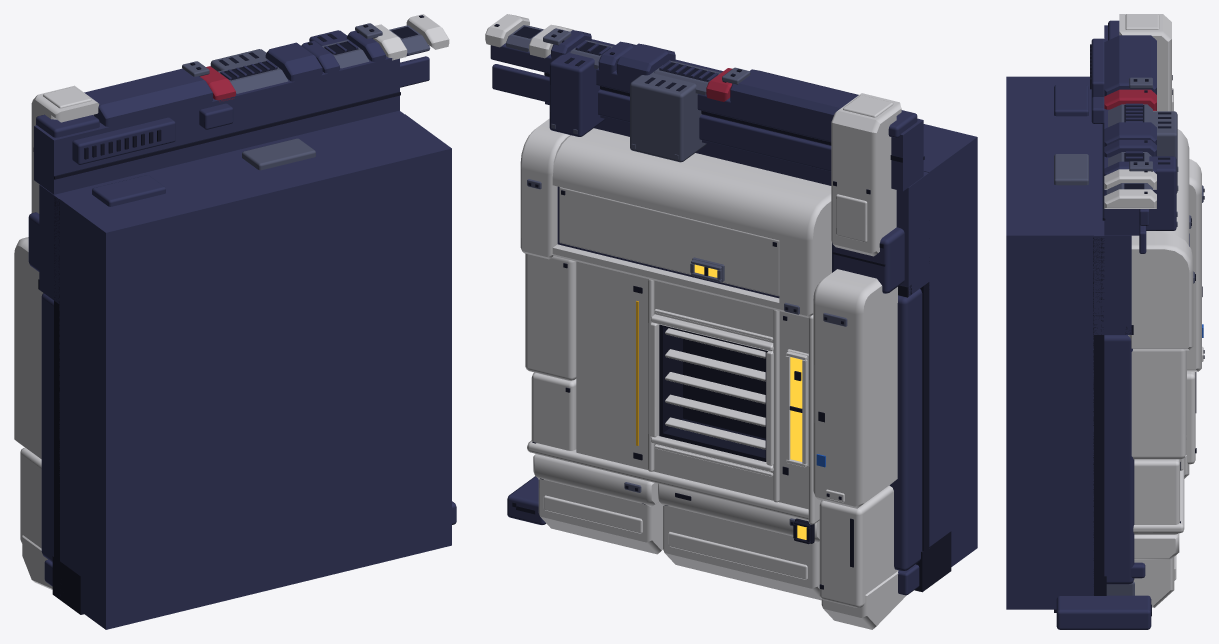
File: hull.bay.vent_amber.bumper.red.plate.w3.000.s2.k-2.05.glb
3 views of the same model, side by side, from view 1: azimuth 30°, elevation 25°; view 2: azimuth 150°, elevation 25°; view 3: azimuth 270°, elevation 25° (orthographic). The views are drawn at different scales.
Parts seen in each view (by area): view 1: hull.bay.vent_amber.bumper.red.plate.w3.000.s2.k-2.05; view 2: hull.bay.vent_amber.bumper.red.plate.w3.000.s2.k-2.05; view 3: hull.bay.vent_amber.bumper.red.plate.w3.000.s2.k-2.05.
Boxes of the visible parts, x1,y1,x2,y2 form: hull.bay.vent_amber.bumper.red.plate.w3.000.s2.k-2.05: (14, 14, 456, 629); hull.bay.vent_amber.bumper.red.plate.w3.000.s2.k-2.05: (485, 14, 977, 629); hull.bay.vent_amber.bumper.red.plate.w3.000.s2.k-2.05: (1006, 14, 1204, 629).
Size of the model in its own units: 3.44 by 4.08 by 1.58.
